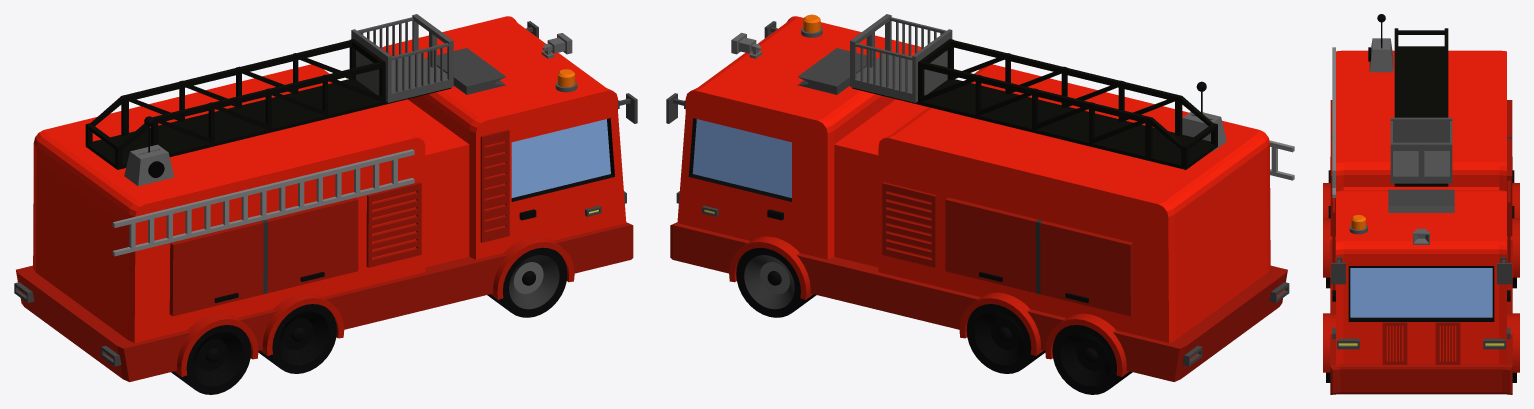
File: Sketchfab_2022_02_26_01_49_04 1.fbx
The picture shows the model from 3 angles, left to right: view 1: azimuth 30°, elevation 25°; view 2: azimuth 150°, elevation 25°; view 3: azimuth 270°, elevation 25°; orthographic projection. The views are drawn at different scales.
Visible parts, largest first — view 1: Cube; view 2: Cube; view 3: Cube.
Part boxes in pixels (<box>): Cube: <box>14,14,637,394</box>; Cube: <box>666,14,1294,394</box>; Cube: <box>1323,14,1519,394</box>.
Bounding box in the file's own units: 406 × 195 × 157.
Materials: 1 (1 with a texture image).
